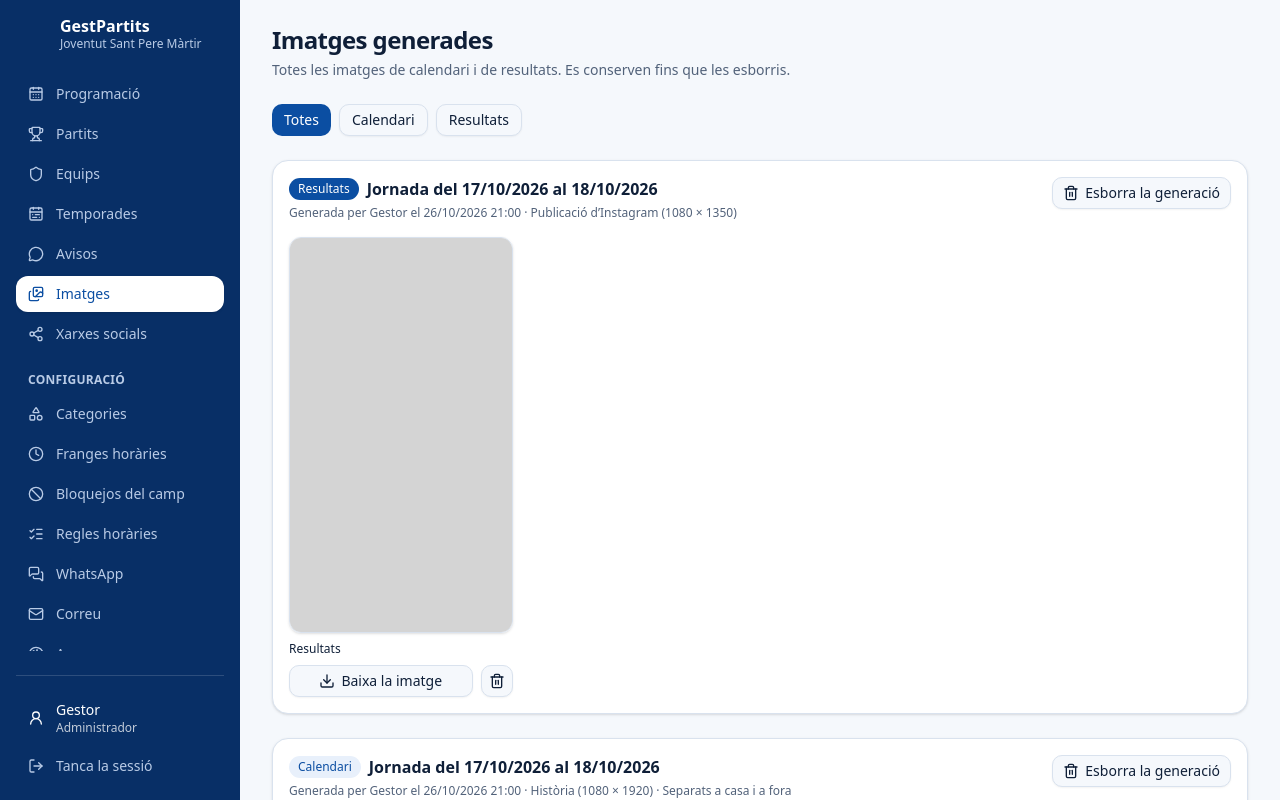
Test: històric d’imatges › filtra per tipus
Click the button "Resultats": click(479, 120) [436, 104, 522, 136]
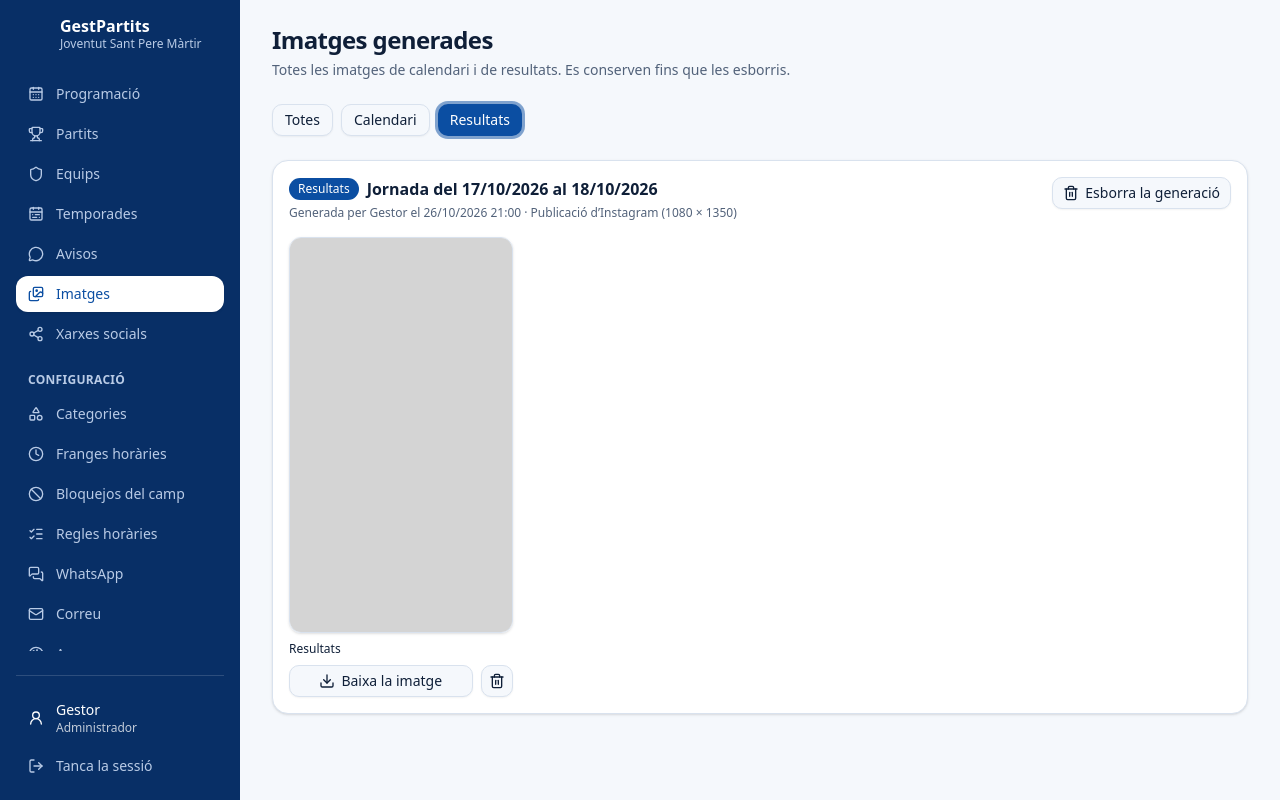
Expected: the number of links "Baixa la imatge" is 1, [289, 665, 472, 697]
